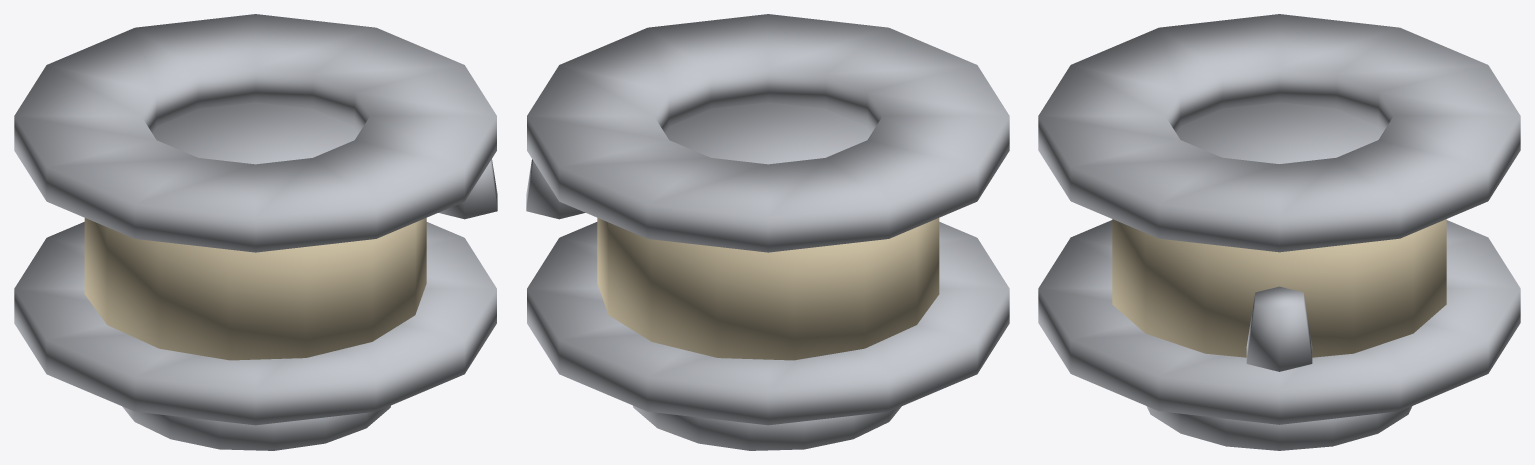
Rendered from spool.glb.
3 renders of one model, left to right at view 1: azimuth 30°, elevation 25°; view 2: azimuth 150°, elevation 25°; view 3: azimuth 270°, elevation 25°, orthographic.
Parts seen in each view (by area): view 1: launcher_spool; view 2: launcher_spool; view 3: launcher_spool.
Boxes of the visible parts, x1=… form: launcher_spool: x1=14, y1=14, x2=497, y2=450; launcher_spool: x1=526, y1=14, x2=1009, y2=450; launcher_spool: x1=1038, y1=14, x2=1520, y2=450.
Size of the model in its own units: 41 by 24 by 38.
